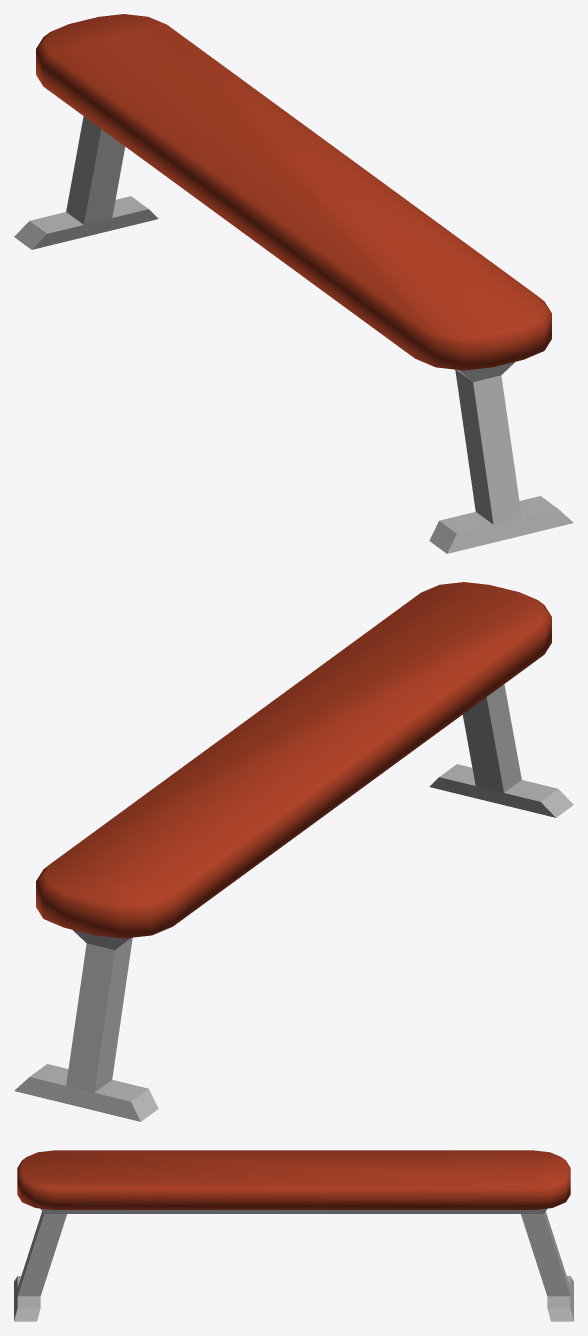
File: Bench_B.fbx
3 renders of one model, top to bottom at view 1: azimuth 30°, elevation 25°; view 2: azimuth 150°, elevation 25°; view 3: azimuth 270°, elevation 25°, orthographic. The views are drawn at different scales.
Visible parts, largest first — view 1: Bench_B; view 2: Bench_B; view 3: Bench_B.
Part boxes in pixels (left/top/right/bottom): Bench_B: left=14, top=14, right=573, bottom=553; Bench_B: left=14, top=582, right=573, bottom=1121; Bench_B: left=14, top=1150, right=573, bottom=1321.
Bounding box in the file's own units: 32.96 × 49.99 × 191.
